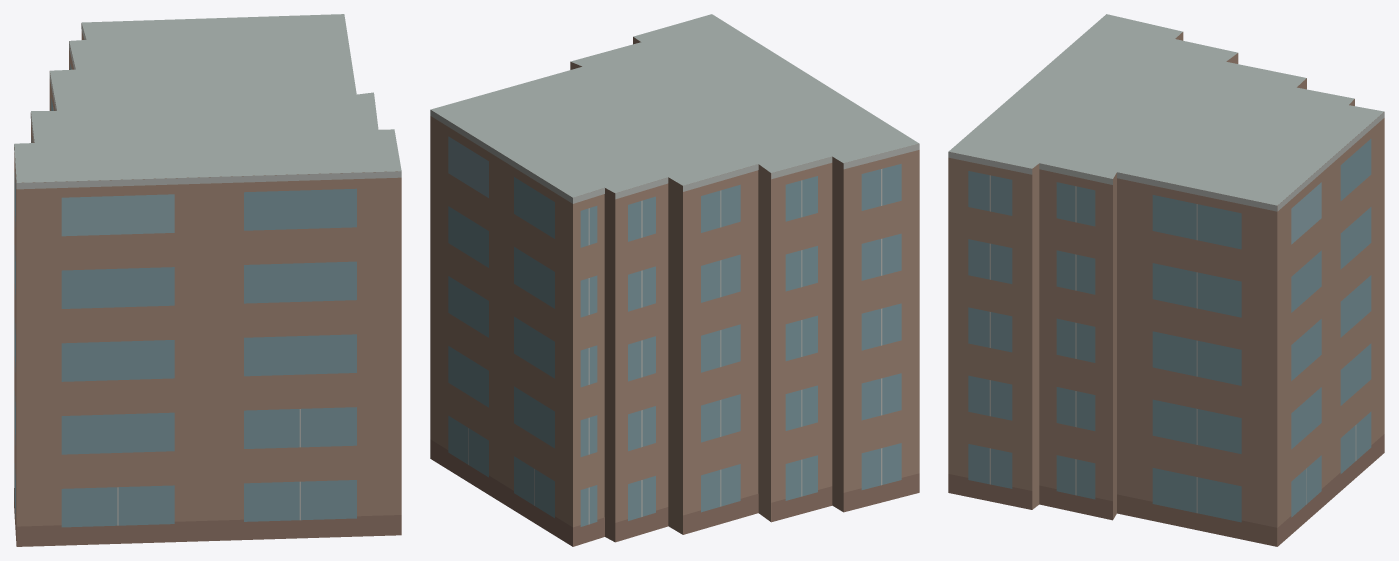
The model's file is survey-upis-32673423.glb.
The picture shows the model from 3 angles, left to right: view 1: azimuth 30°, elevation 25°; view 2: azimuth 150°, elevation 25°; view 3: azimuth 270°, elevation 25°; orthographic projection. The views are drawn at different scales.
Parts seen in each view (by area): view 1: survey-upis-32673423.tmp; view 2: survey-upis-32673423.tmp; view 3: survey-upis-32673423.tmp.
Part boxes in pixels (box(x1,y1,x2,y2)): survey-upis-32673423.tmp: box(14, 14, 401, 546); survey-upis-32673423.tmp: box(430, 14, 919, 546); survey-upis-32673423.tmp: box(948, 14, 1384, 546).
Size of the model in its own units: 16.63 by 13.8 by 15.99.
